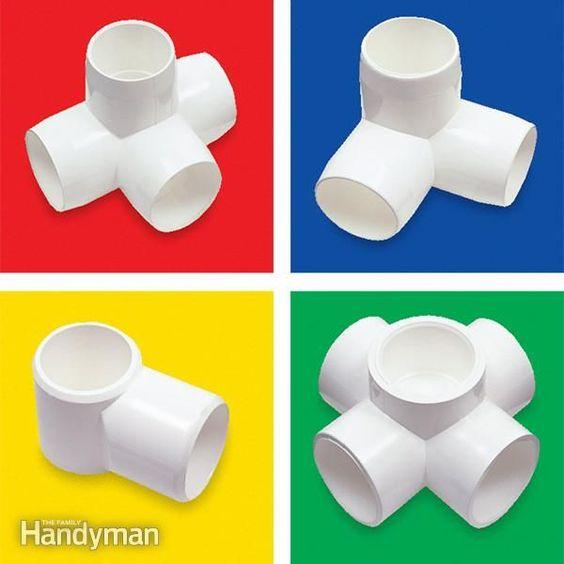PVC: (314, 14, 538, 244), (310, 315, 541, 528), (21, 18, 238, 234), (31, 320, 232, 503)
